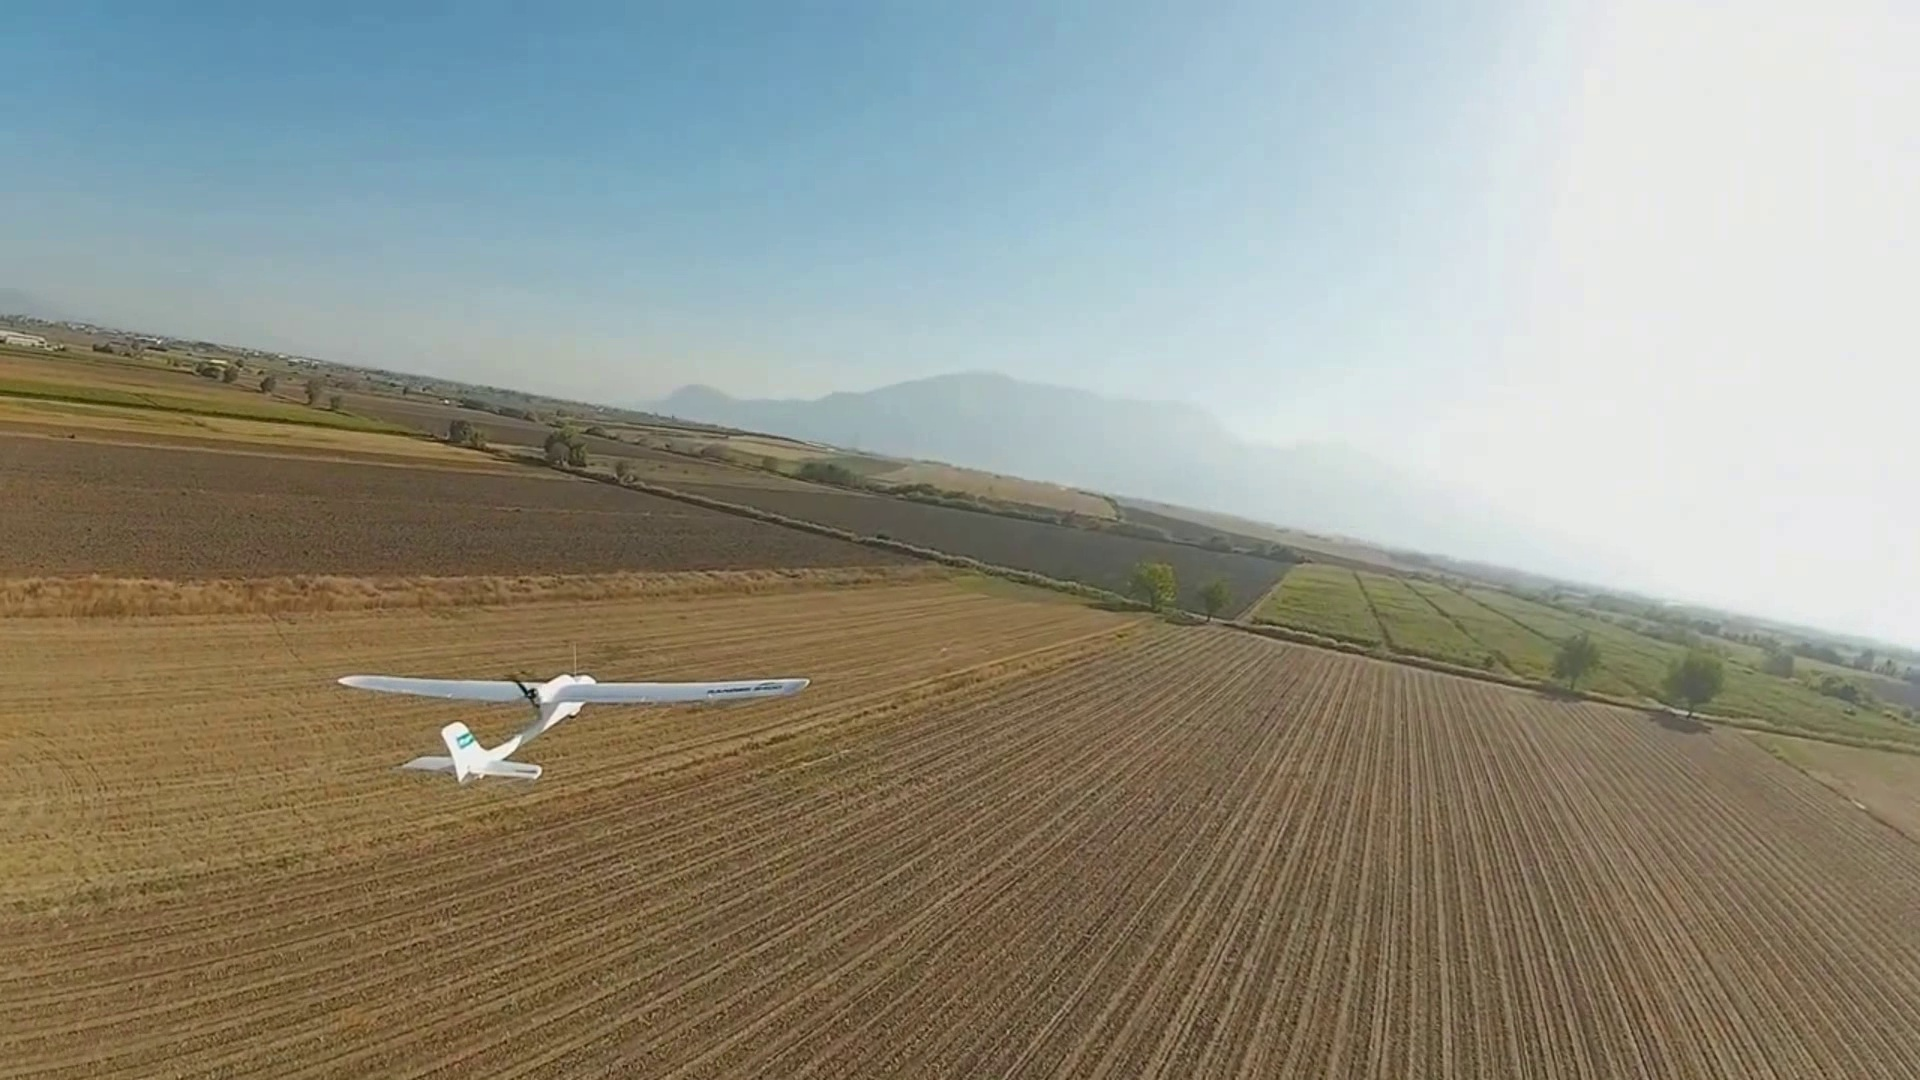airplane: (334, 666, 809, 785)
